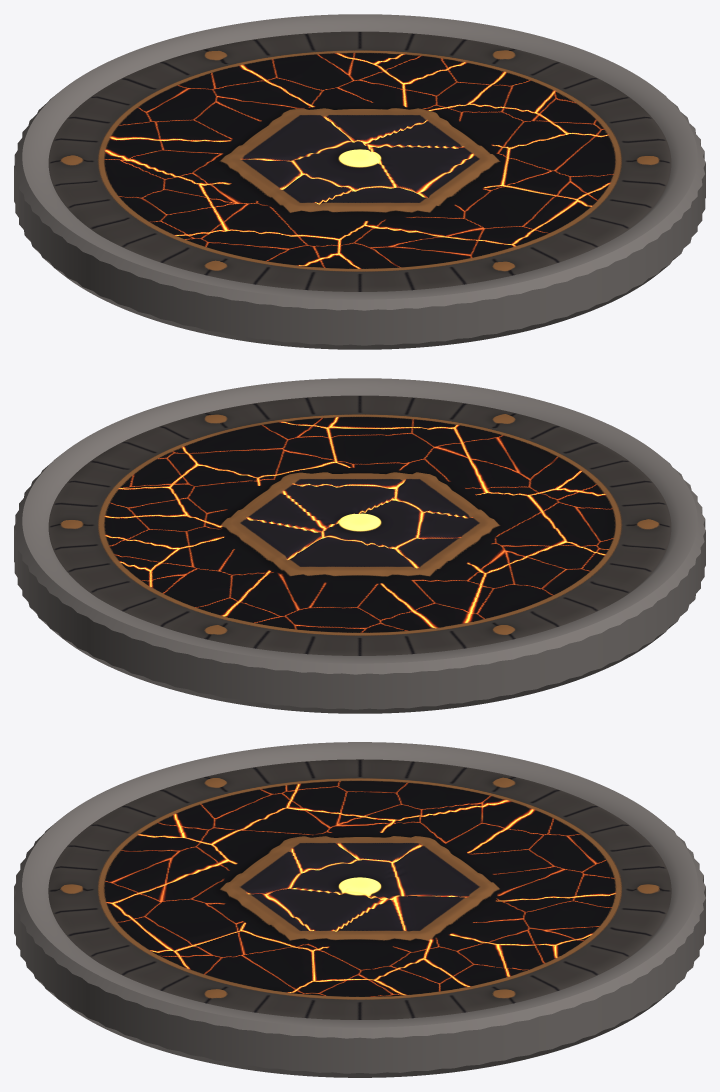
File: coin_obsidian.fbx
3 views of the same model, one above another, from view 1: azimuth 30°, elevation 25°; view 2: azimuth 150°, elevation 25°; view 3: azimuth 270°, elevation 25° (orthographic).
Visible parts, largest first — view 1: coin_obsidian; view 2: coin_obsidian; view 3: coin_obsidian.
Part boxes in pixels (box(x1,y1,x2,y2)): coin_obsidian: box(14, 14, 705, 349); coin_obsidian: box(14, 378, 705, 713); coin_obsidian: box(14, 742, 705, 1077).
Size of the model in its own units: 0.9992 by 0.081 by 0.9992.
